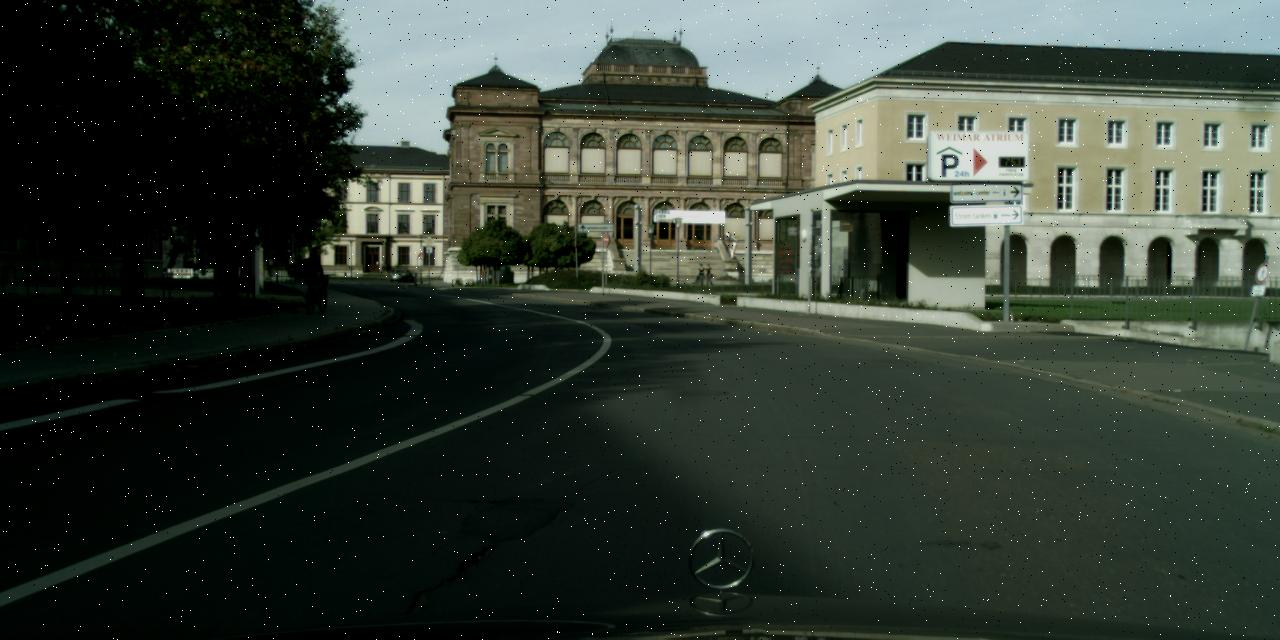ped: (305, 245, 327, 302), (704, 263, 714, 285), (697, 263, 705, 285)
